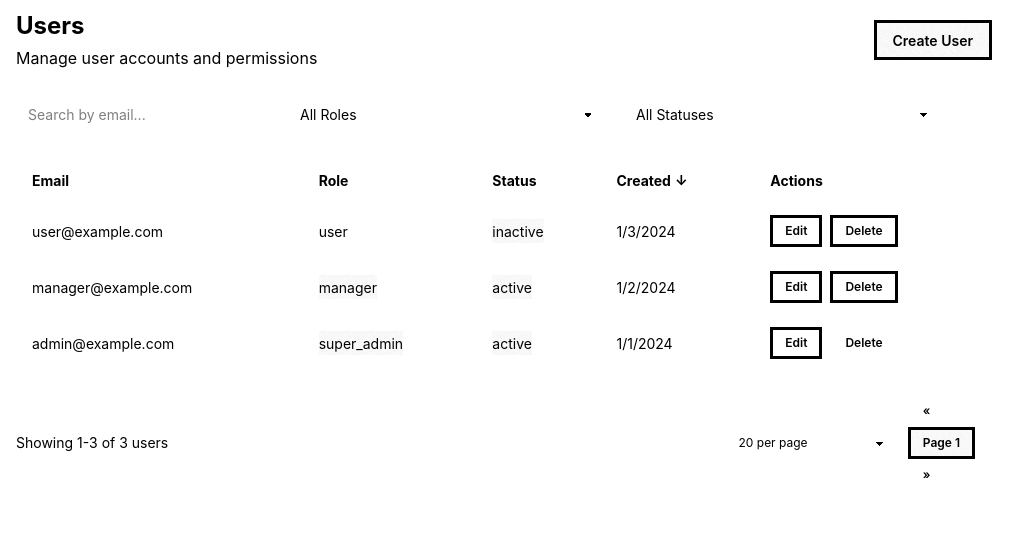
Scenario: UsersTable › Filtering › should show clear filters button when filters active
# Apply role filter
Select "Admin" in the dropdown with test id "role-filter" at (448, 114), box [288, 94, 608, 134]
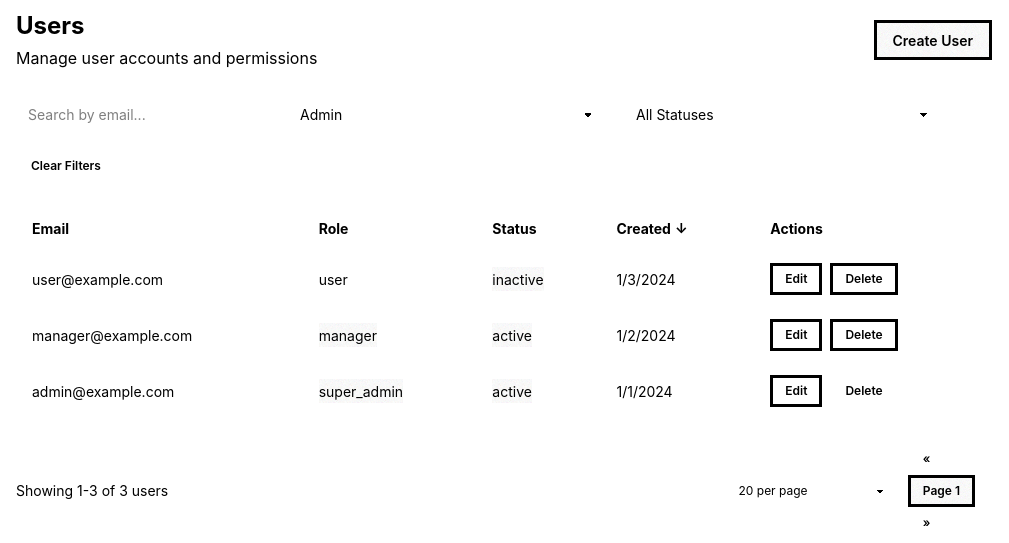
Expected: the button with test id "clear-filters-btn" is shown, [16, 150, 116, 182]
